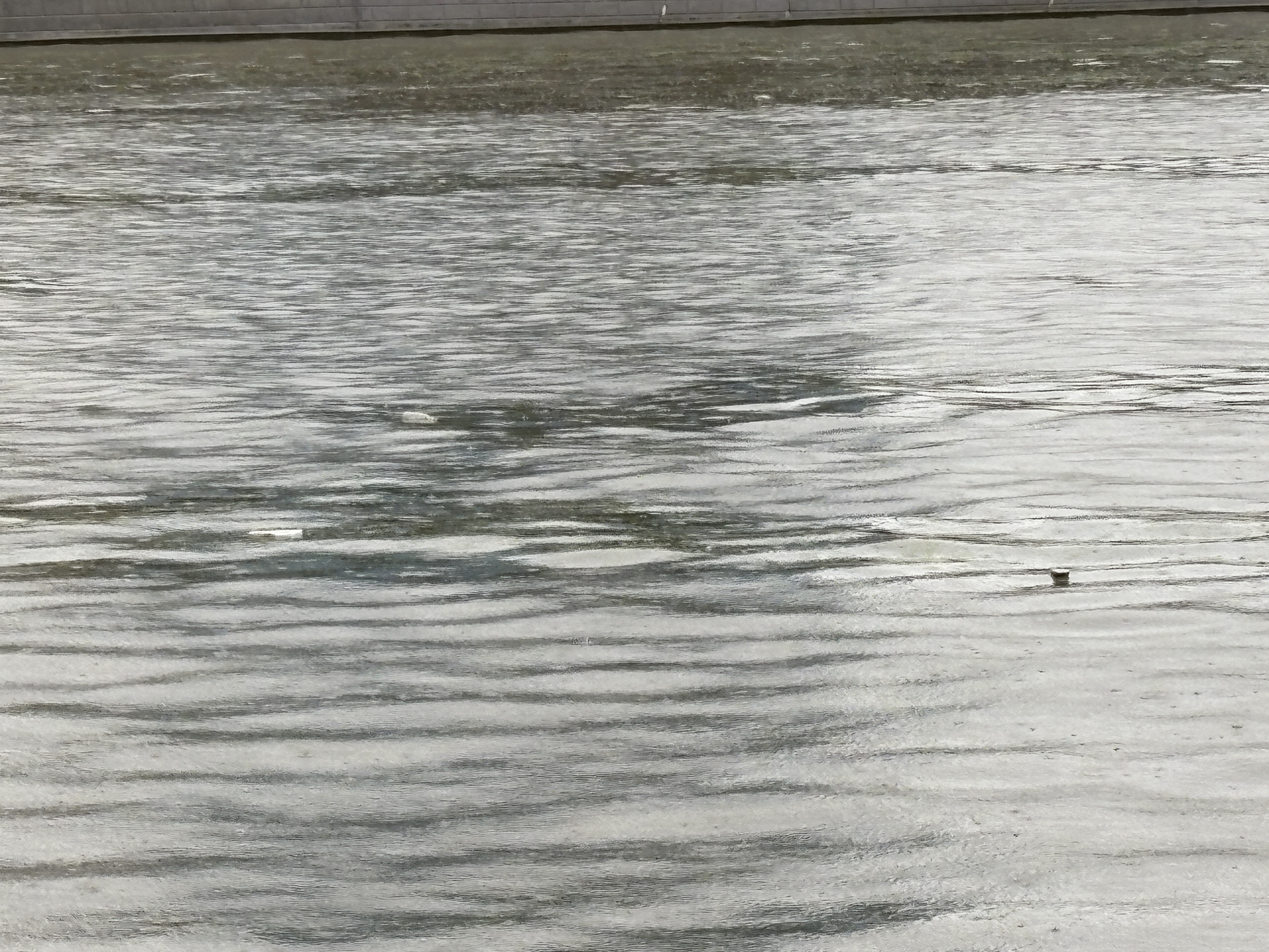Plastic wastes: (242, 521, 307, 543), (401, 405, 437, 430), (1046, 565, 1072, 586)
